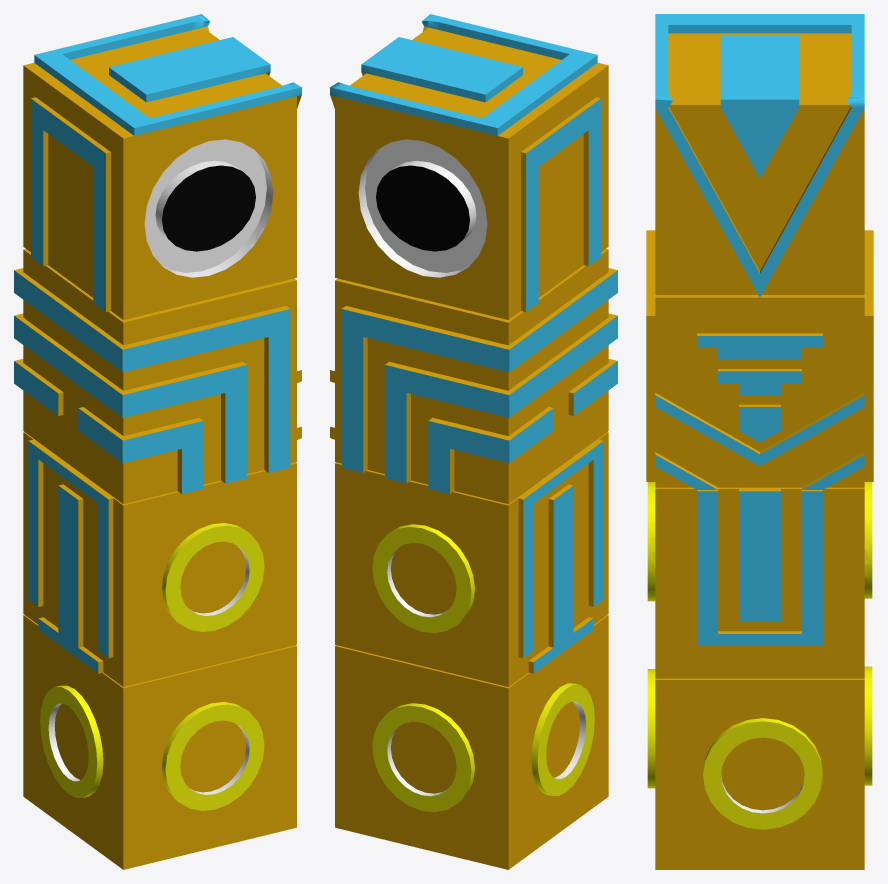
The model's file is Totem.fbx.
3 renders of one model, left to right at view 1: azimuth 30°, elevation 25°; view 2: azimuth 150°, elevation 25°; view 3: azimuth 270°, elevation 25°, orthographic. The views are drawn at different scales.
Visible parts, largest first — view 1: BaseMesh, Object_6, Object_4, Object_7, Object_8, Object_9; view 2: BaseMesh, Object_6, Object_4, Object_7, Object_8, Object_9; view 3: BaseMesh, Object_6, Object_4.
Boxes of the visible parts, <box> form: BaseMesh: <box>14,26,301,869</box>; Object_6: <box>14,14,301,672</box>; Object_4: <box>40,523,264,810</box>; Object_7: <box>144,139,273,277</box>; Object_8: <box>162,165,255,251</box>; Object_9: <box>48,546,249,794</box>; BaseMesh: <box>330,26,617,869</box>; Object_6: <box>330,14,617,672</box>; Object_4: <box>372,524,594,812</box>; Object_7: <box>358,139,487,277</box>; Object_8: <box>376,165,469,251</box>; Object_9: <box>387,547,586,796</box>; BaseMesh: <box>646,33,873,869</box>; Object_6: <box>655,14,864,645</box>; Object_4: <box>647,482,872,829</box>.
Size of the model in its own units: 1500 by 5700 by 1520.
